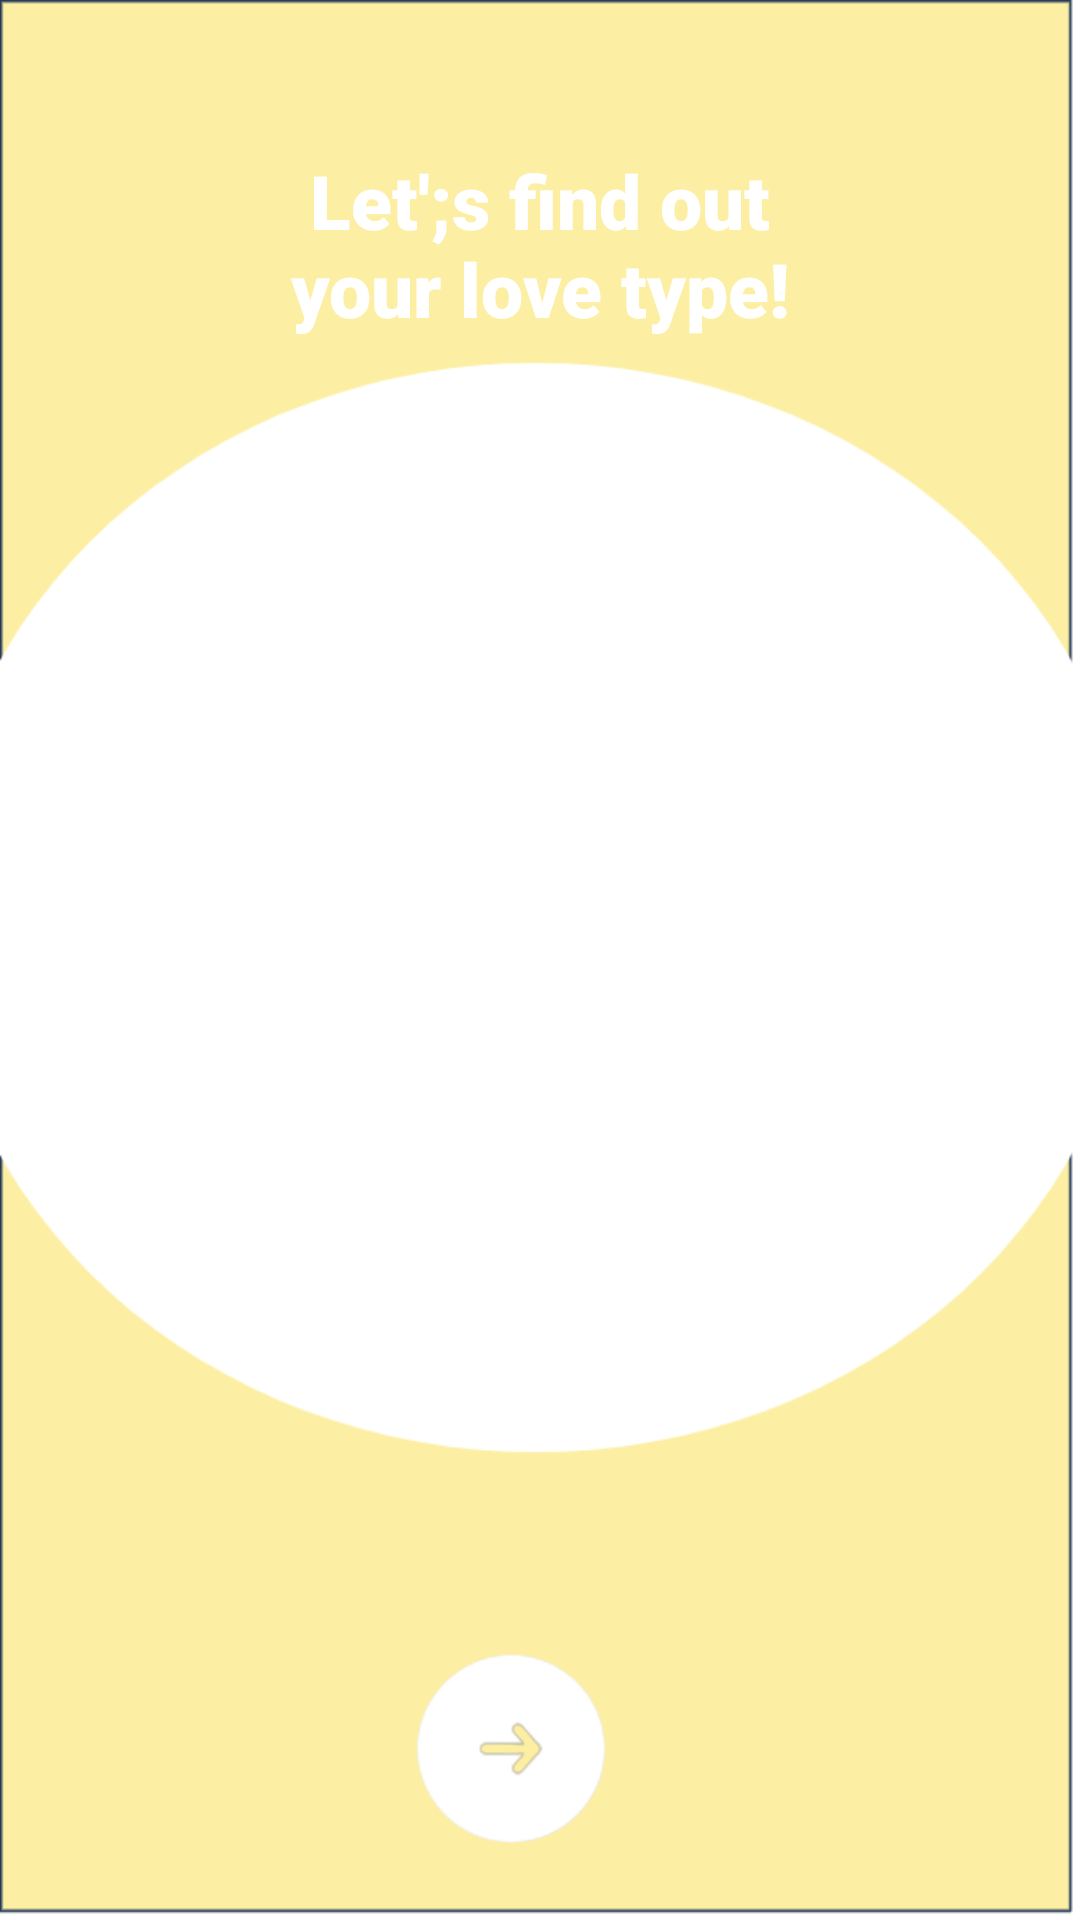

Icons on this 1080px x 1920px Android screen, each with the point to tap as point (x, y):
next: point (511, 1748)
